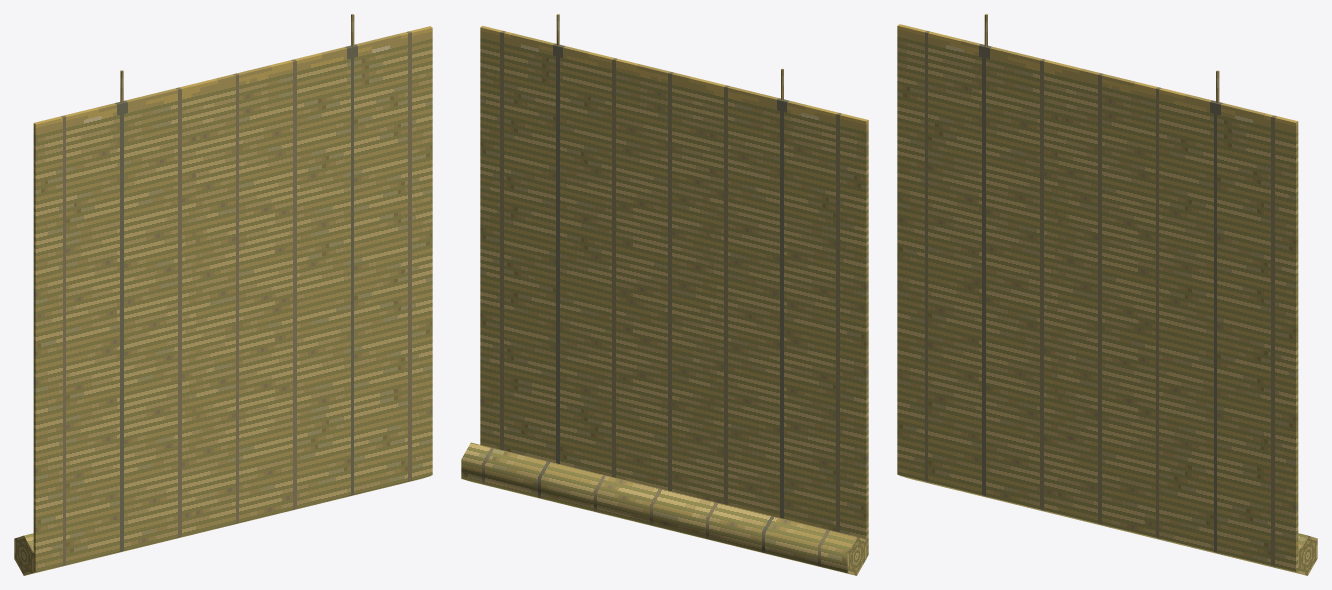
The model's file is 0506_Bamboo_Blind.glb.
The picture shows the model from 3 angles, left to right: view 1: azimuth 30°, elevation 25°; view 2: azimuth 150°, elevation 25°; view 3: azimuth 330°, elevation 25°; orthographic projection. The views are drawn at different scales.
Parts seen in each view (by area): view 1: part_0; view 2: part_0; view 3: part_0.
Boxes of the visible parts, x1=… form: part_0: x1=14, y1=14, x2=432, y2=575; part_0: x1=461, y1=14, x2=868, y2=575; part_0: x1=897, y1=14, x2=1317, y2=575.
Size of the model in its own units: 1.2 by 1.42 by 0.1131.
Materials: 1 (1 with a texture image).
